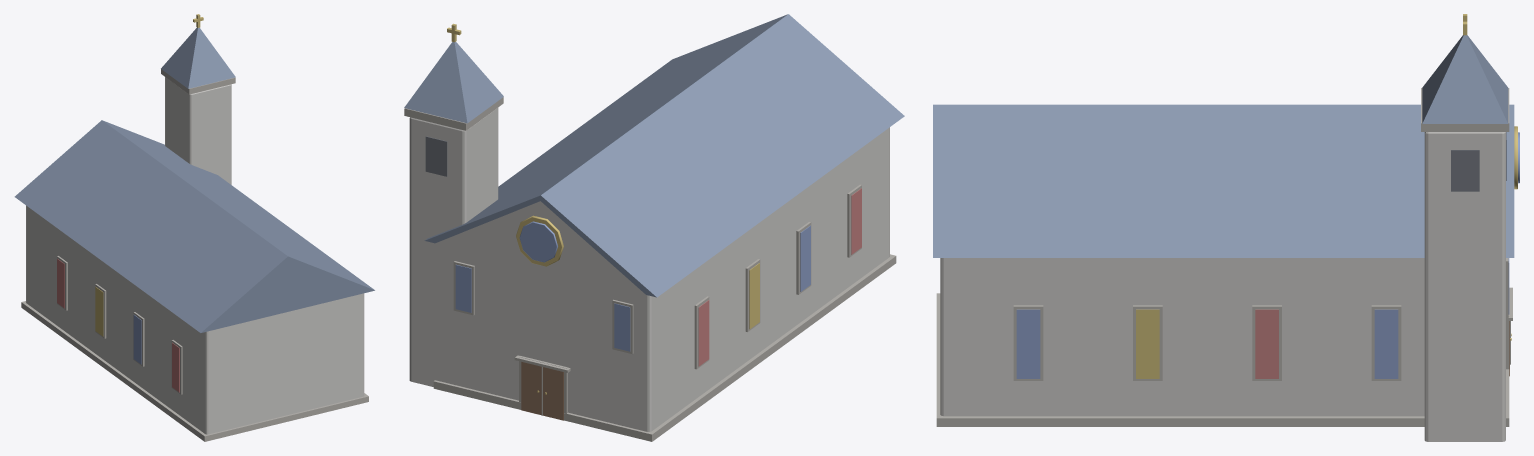
File: centro-igreja-36864549.glb
3 views of the same model, side by side, from view 1: azimuth 30°, elevation 25°; view 2: azimuth 150°, elevation 25°; view 3: azimuth 270°, elevation 25° (orthographic). The views are drawn at different scales.
Visible parts, largest first — view 1: centro_igreja_body; view 2: centro_igreja_body; view 3: centro_igreja_body.
Part boxes in pixels (box(x1,y1,x2,y2)): centro_igreja_body: box(14, 27, 374, 441); centro_igreja_body: box(404, 14, 904, 441); centro_igreja_body: box(933, 35, 1519, 441).
Bounding box in the file's own units: 14.5 × 19 × 24.59.
